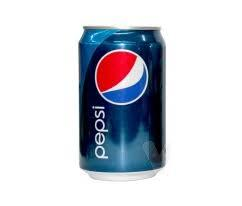can: (79, 26, 165, 181)
